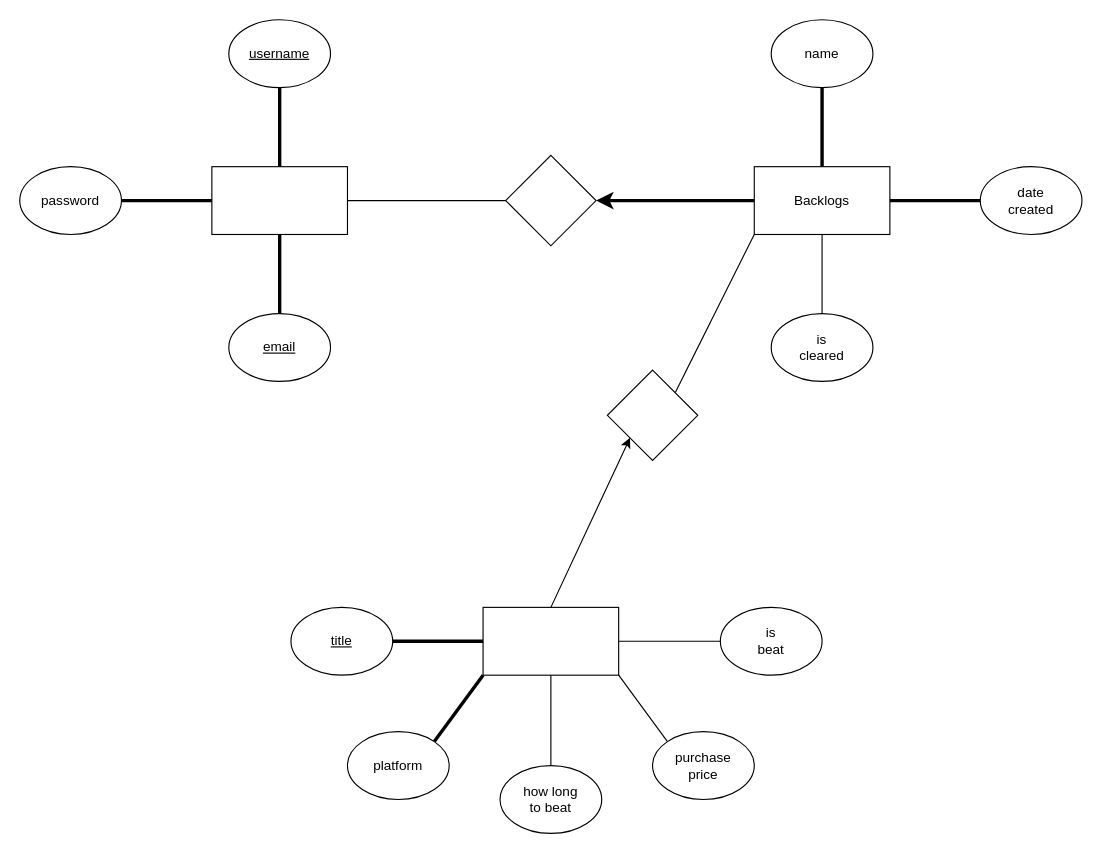
This 1102x853 diagram has some shape labels left out. Here are the shapes that lost their labels. From the top down, the centre of each, then its label:
pixel 279 200: Users
pixel 550 200: create
pixel 652 414: consists of
pixel 550 640: Games
